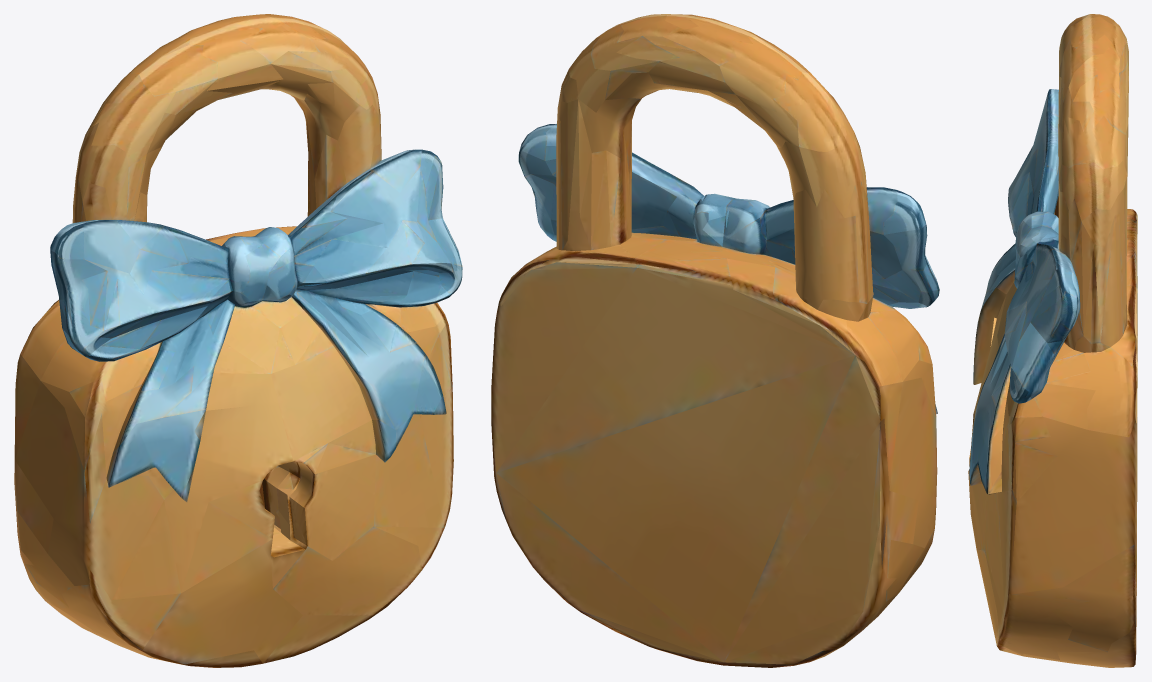
The model's file is padlock.glb.
3 views of the same model, side by side, from view 1: azimuth 30°, elevation 25°; view 2: azimuth 150°, elevation 25°; view 3: azimuth 270°, elevation 25° (orthographic). The views are drawn at different scales.
Bounding box in the file's own units: 1.28 × 1.9 × 0.4816.
Materials: 1 (1 with a texture image).
